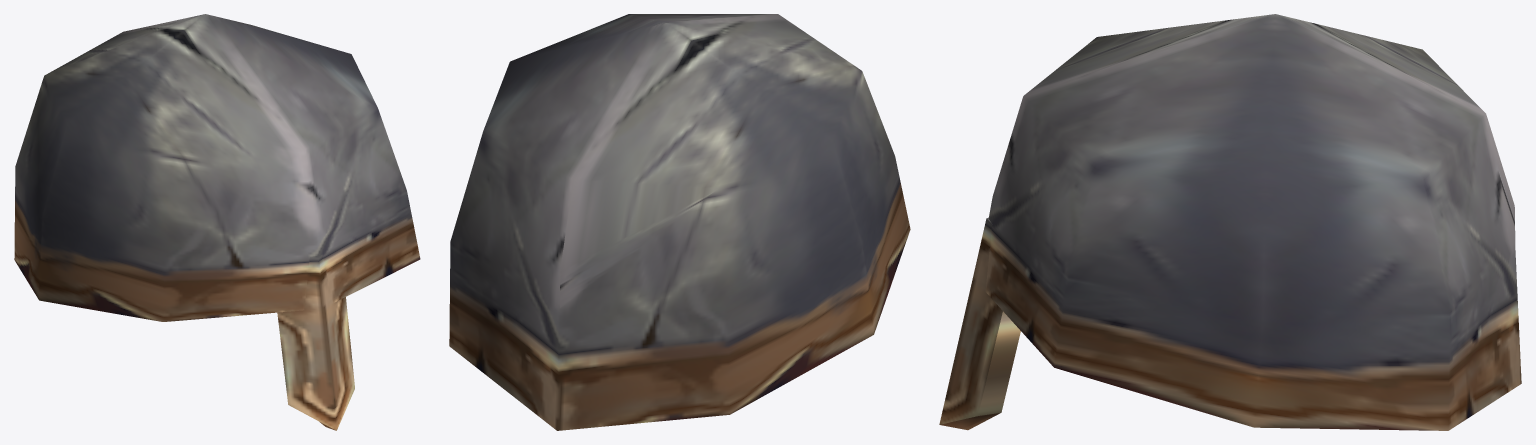
The model's file is Helmet_Grade_02.glb.
3 renders of one model, left to right at view 1: azimuth 30°, elevation 25°; view 2: azimuth 150°, elevation 25°; view 3: azimuth 270°, elevation 25°, orthographic. The views are drawn at different scales.
Visible parts, largest first — view 1: Helmet_Grade_02; view 2: Helmet_Grade_02; view 3: Helmet_Grade_02.
Boxes of the visible parts, <box> form: Helmet_Grade_02: <box>14,14,420,430</box>; Helmet_Grade_02: <box>449,14,910,430</box>; Helmet_Grade_02: <box>939,14,1521,430</box>.
Size of the model in its own units: 3.46 by 3.08 by 3.91.
Materials: 1 (1 with a texture image).
